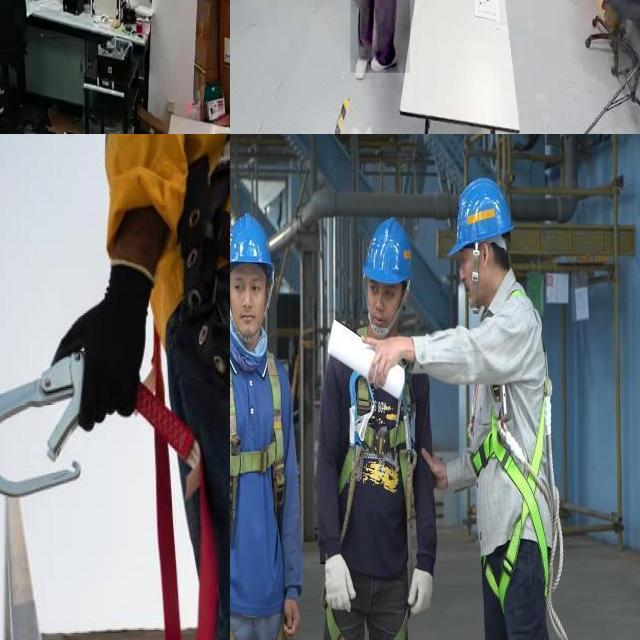Harness: (324, 326, 420, 640), (468, 269, 554, 616), (139, 352, 218, 640), (230, 338, 293, 640), (0, 463, 80, 640), (0, 355, 84, 462)
No_Ear-Protection: (481, 240, 491, 270)
No_Glasses: (230, 275, 267, 297), (366, 281, 403, 302)
person: (350, 0, 410, 73)
shoes: (370, 37, 396, 80), (352, 40, 370, 82)
